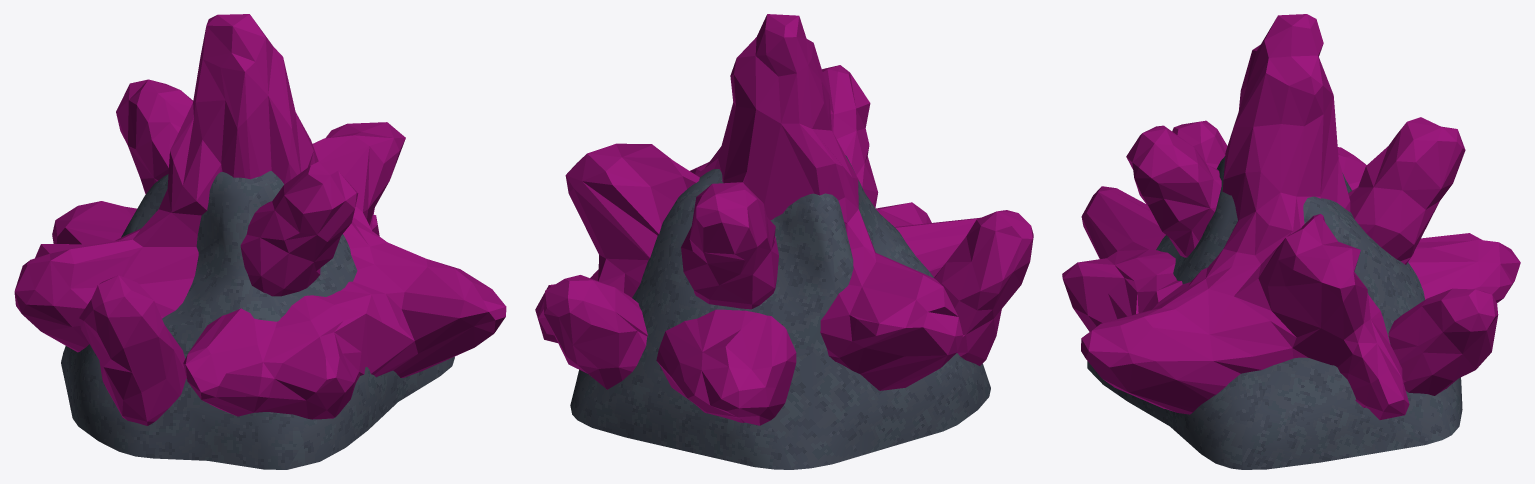
Rendered from MainCrystal.fbx.
3 views of the same model, side by side, from view 1: azimuth 30°, elevation 25°; view 2: azimuth 150°, elevation 25°; view 3: azimuth 270°, elevation 25° (orthographic). The views are drawn at different scales.
Visible parts, largest first — view 1: MainCrystal; view 2: MainCrystal; view 3: MainCrystal.
Boxes of the visible parts, box(x1,y1,x2,y2) form: MainCrystal: box(14, 14, 506, 469); MainCrystal: box(535, 14, 1033, 469); MainCrystal: box(1062, 14, 1520, 469).
Size of the model in its own units: 430 by 392 by 447.
